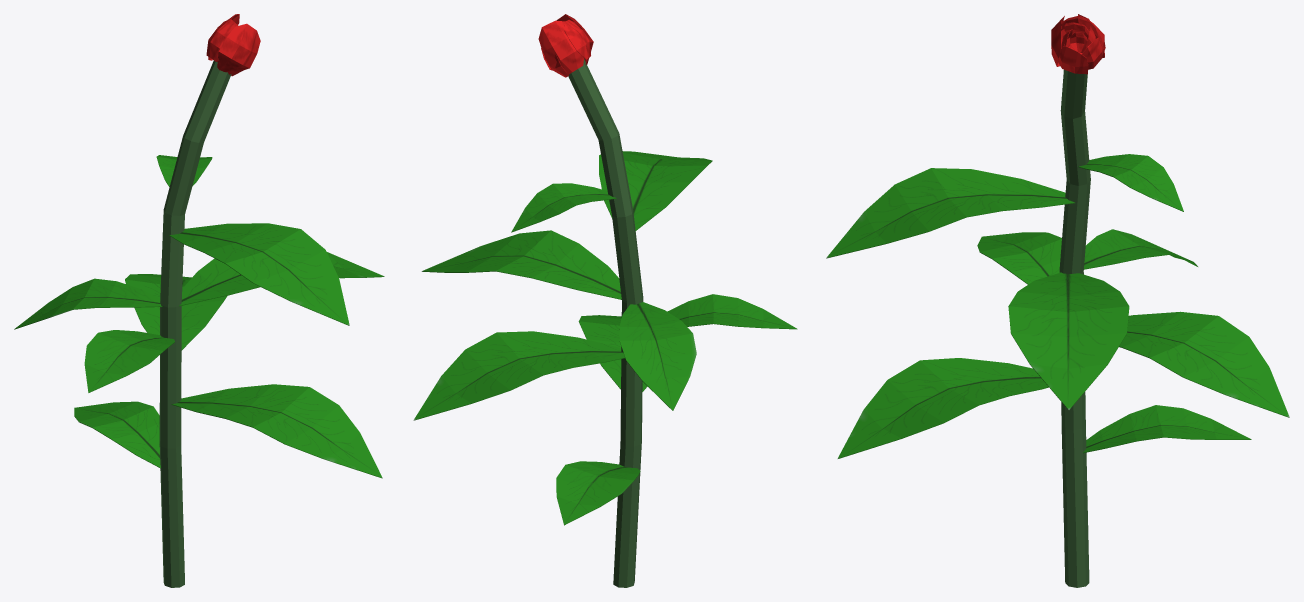
Rendered from plant.fbx.
3 views of the same model, side by side, from view 1: azimuth 30°, elevation 25°; view 2: azimuth 150°, elevation 25°; view 3: azimuth 270°, elevation 25° (orthographic). The views are drawn at different scales.
Parts seen in each view (by area): view 1: Cylinder; view 2: Cylinder; view 3: Cylinder.
Boxes of the visible parts, x1,y1,x2,y2 form: Cylinder: (14,14,384,587); Cylinder: (413,14,797,587); Cylinder: (826,14,1289,587).
Bounding box in the file's own units: 1.36 × 1.24 × 1.94.
